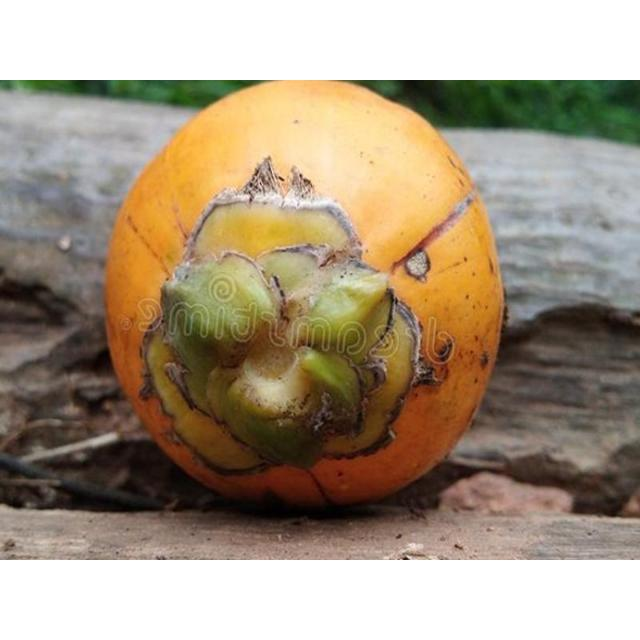good: (108, 80, 504, 514)
